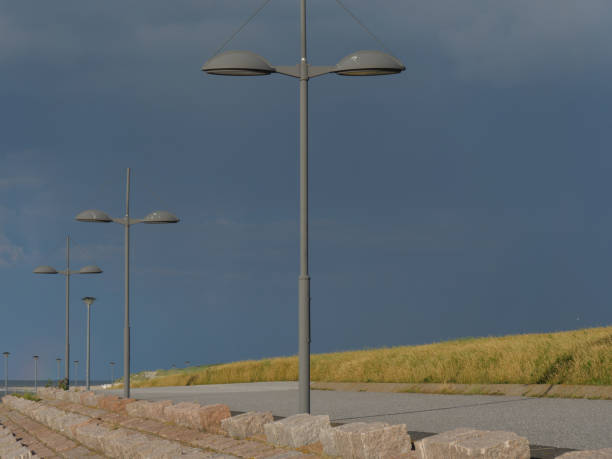light_pole: (294, 1, 314, 411), (120, 180, 135, 396), (60, 249, 74, 389), (81, 297, 94, 386)
